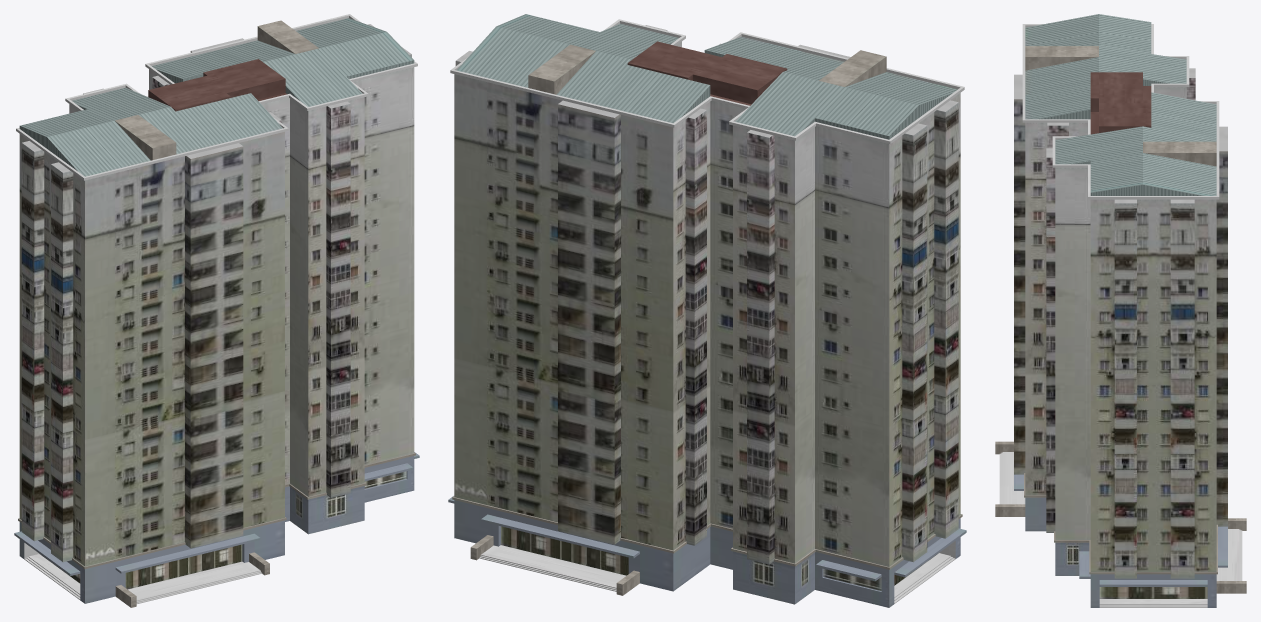
3 renders of one model, left to right at view 1: azimuth 30°, elevation 25°; view 2: azimuth 150°, elevation 25°; view 3: azimuth 270°, elevation 25°, orthographic. The views are drawn at different scales.
Visible parts, largest first — view 1: HN488___N4A__N4B; view 2: HN488___N4A__N4B; view 3: HN488___N4A__N4B.
Boxes of the visible parts, box(x1,y1,x2,y2) form: HN488___N4A__N4B: box(14, 14, 419, 607); HN488___N4A__N4B: box(448, 14, 966, 607); HN488___N4A__N4B: box(995, 14, 1246, 607).
Size of the model in its own units: 56.66 by 62 by 33.39.
Materials: 1 (1 with a texture image).
